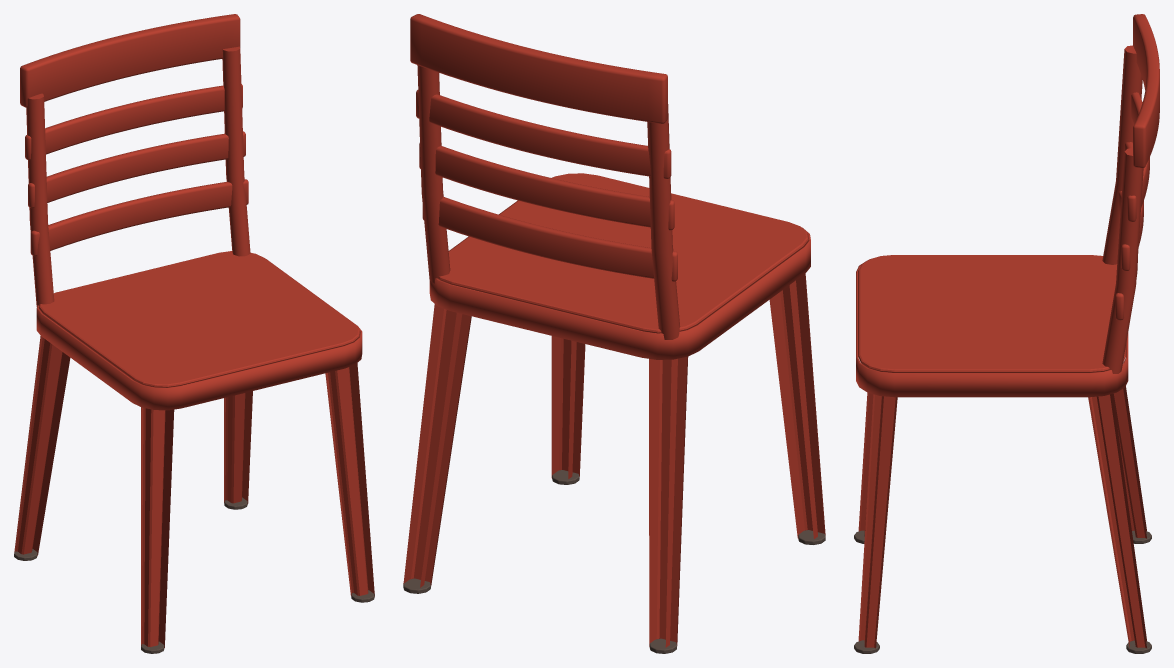
File: SM_PlasticChair_Red.glb
3 views of the same model, side by side, from view 1: azimuth 30°, elevation 25°; view 2: azimuth 150°, elevation 25°; view 3: azimuth 270°, elevation 25° (orthographic). The views are drawn at different scales.
Visible parts, largest first — view 1: SM_PlasticChair; view 2: SM_PlasticChair; view 3: SM_PlasticChair.
Boxes of the visible parts, left/top/right/bottom form: SM_PlasticChair: left=14, top=14, right=374, bottom=653; SM_PlasticChair: left=403, top=14, right=825, bottom=653; SM_PlasticChair: left=854, top=14, right=1159, bottom=653.
Size of the model in its own units: 0.3938 by 0.7995 by 0.4227.
